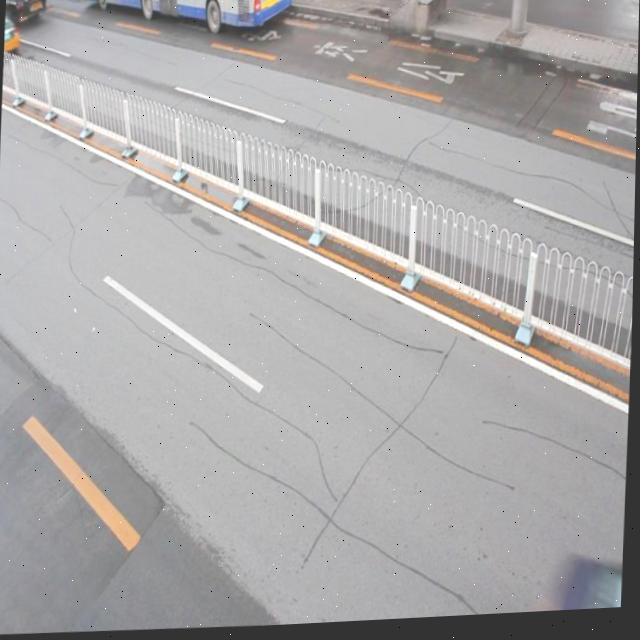van: (76, 0, 290, 48)
